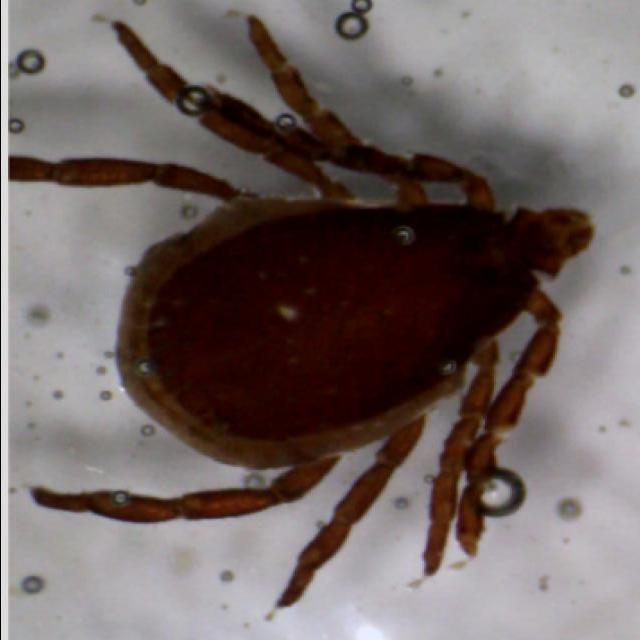Rhipicephalus Sanguineus-M: (7, 15, 593, 622)
